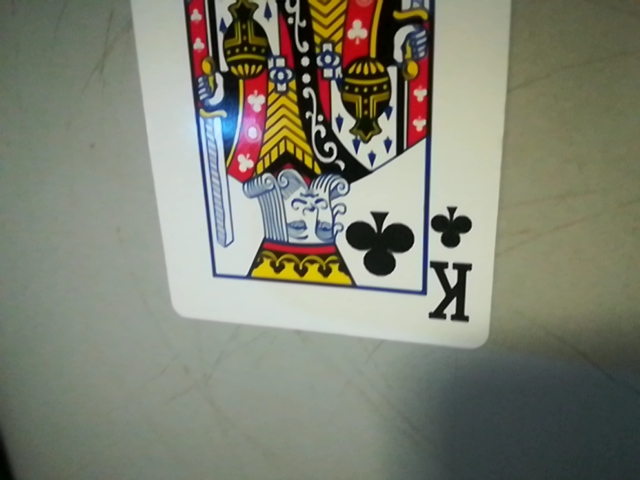mh k: (420, 202, 485, 333)
